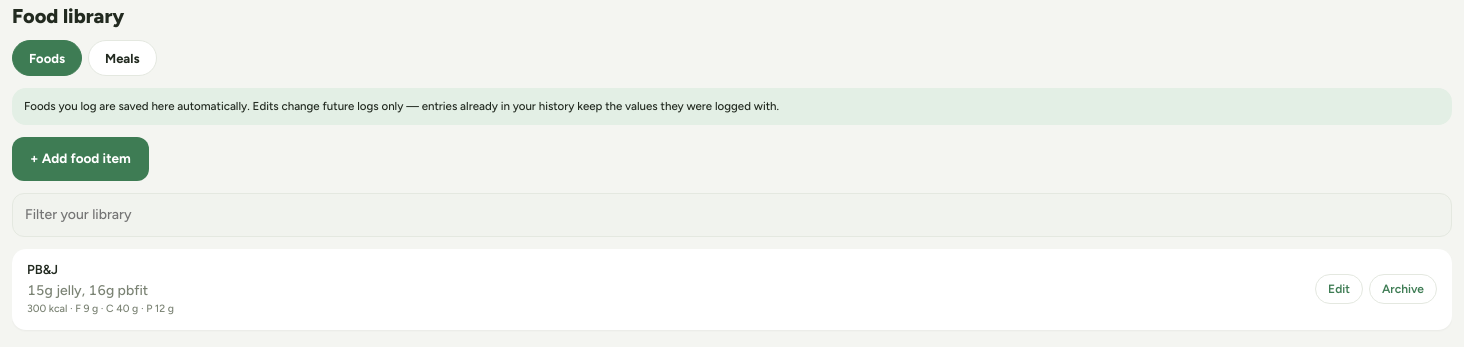
Test case: FoodsScreen new meal button placement › withholds "+ New meal" until the library has at least two foods
Click the tab "Meals" at (122,58), box [88,40,156,76]
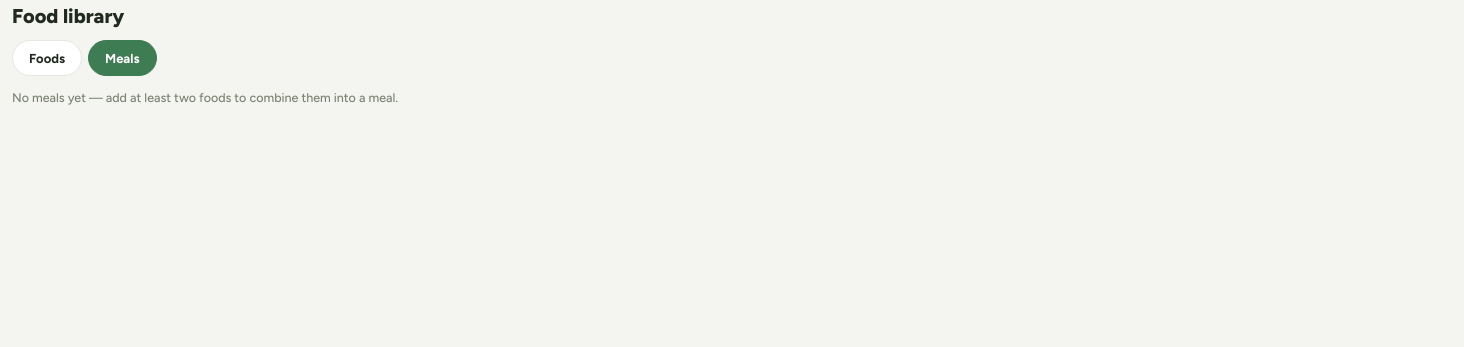
Now the text "No meals yet — add at least two foods to combine them into a meal." is shown, box [12,90,398,104]
